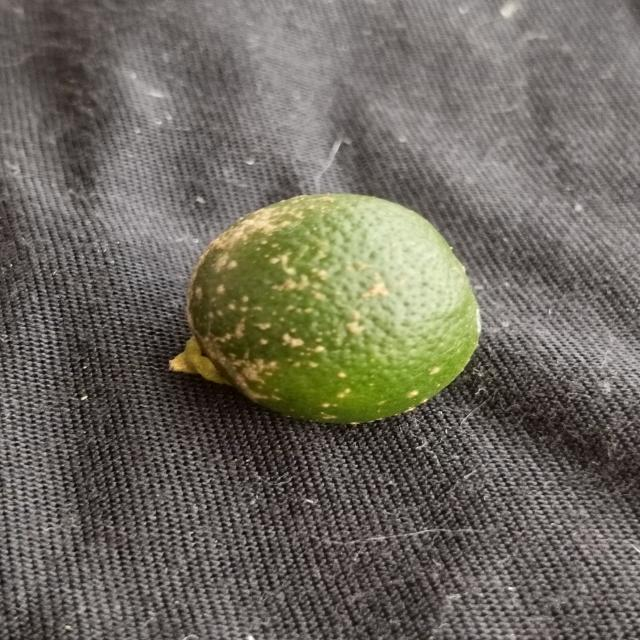scab: (196, 191, 494, 433)
